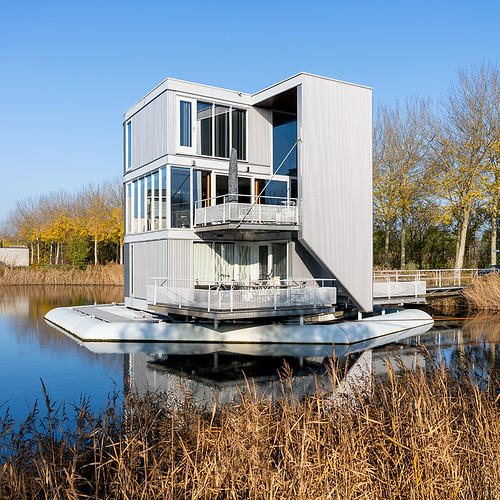low: (120, 67, 375, 319)
